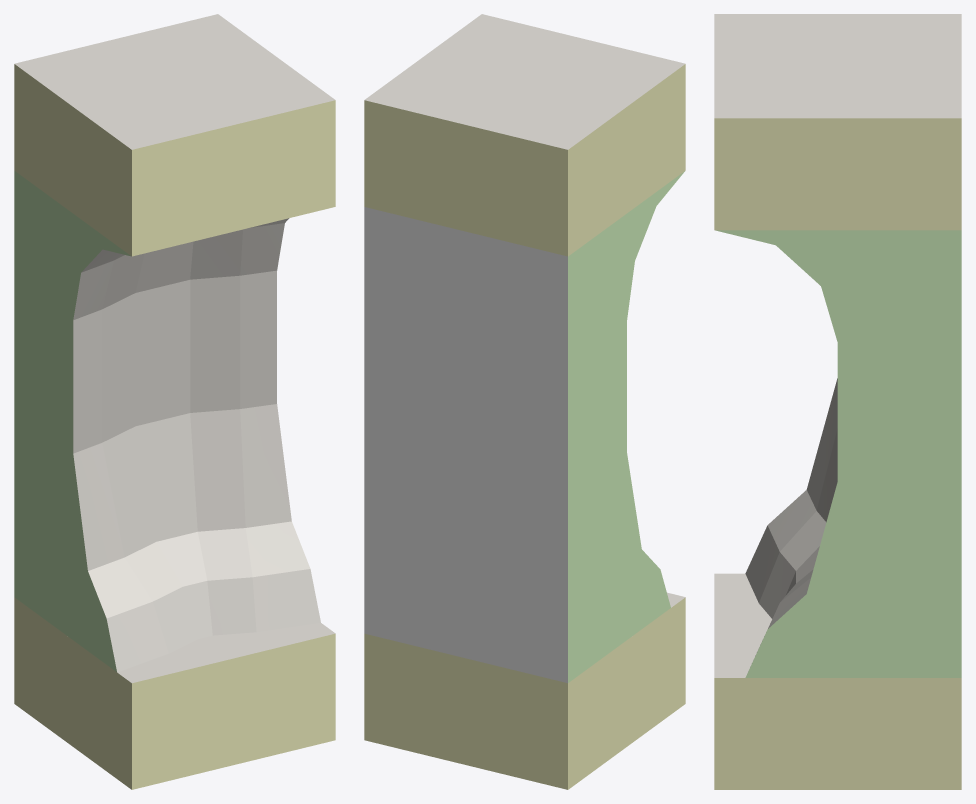
Rendered from Cave_Wall_Straight_Concave.glb.
3 renders of one model, left to right at view 1: azimuth 30°, elevation 25°; view 2: azimuth 150°, elevation 25°; view 3: azimuth 270°, elevation 25°, orthographic. The views are drawn at different scales.
Visible parts, largest first — view 1: Floor_And_Ceiling_Flat_1x1 (×2), Wall_Straight_Deformed_Concave_2x2_Base, Wall_Straight_Deformed_Concave_2x2_Top; view 2: Floor_And_Ceiling_Flat_1x1 (×2), Wall_Straight_Deformed_Concave_2x2_Base, Wall_Straight_Deformed_Concave_2x2_Top; view 3: Floor_And_Ceiling_Flat_1x1 (×2), Wall_Straight_Deformed_Concave_2x2_Base, Wall_Straight_Deformed_Concave_2x2_Top.
Part boxes in pixels (x1,y1,x2,y2): Floor_And_Ceiling_Flat_1x1 (×2): (14, 14, 335, 789); Wall_Straight_Deformed_Concave_2x2_Base: (14, 377, 320, 672); Wall_Straight_Deformed_Concave_2x2_Top: (14, 171, 289, 426); Floor_And_Ceiling_Flat_1x1 (×2): (364, 14, 685, 789); Wall_Straight_Deformed_Concave_2x2_Base: (364, 420, 670, 683); Wall_Straight_Deformed_Concave_2x2_Top: (364, 171, 684, 469); Floor_And_Ceiling_Flat_1x1 (×2): (714, 14, 961, 789); Wall_Straight_Deformed_Concave_2x2_Base: (745, 378, 961, 677); Wall_Straight_Deformed_Concave_2x2_Top: (715, 230, 961, 454).
Size of the model in its own units: 200 by 600 by 200.
